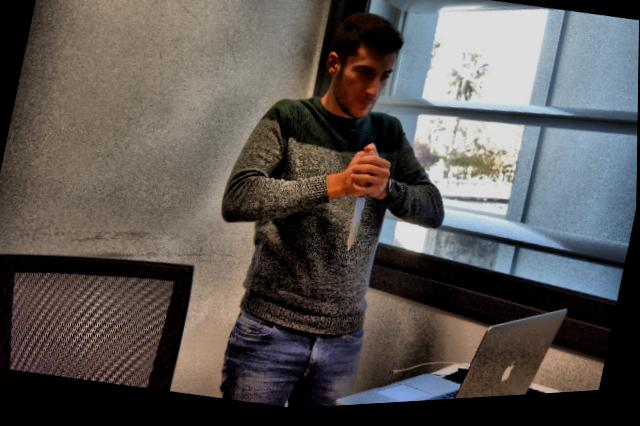knife: (340, 192, 372, 261)
